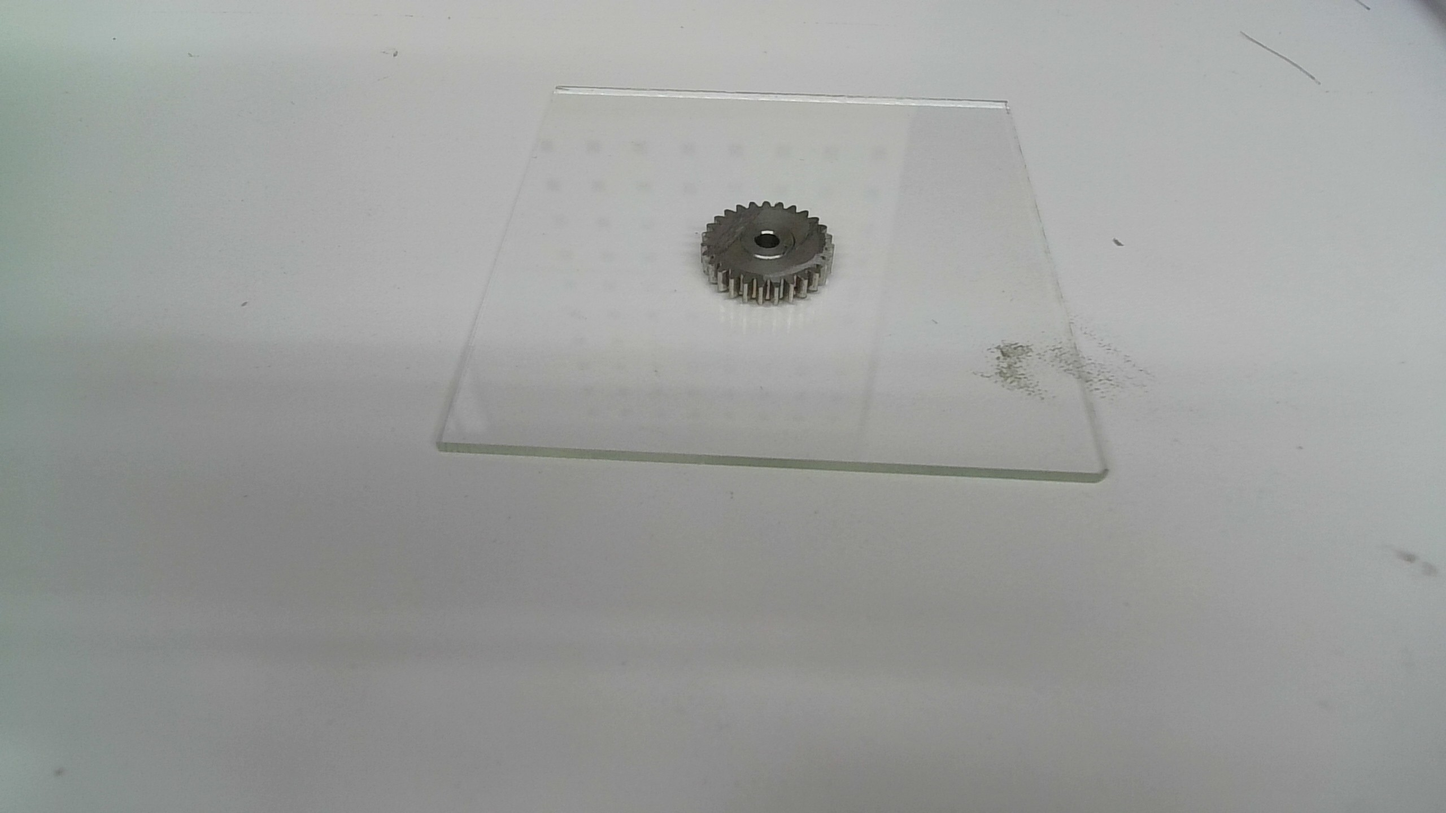gear: (699, 200, 837, 308)
